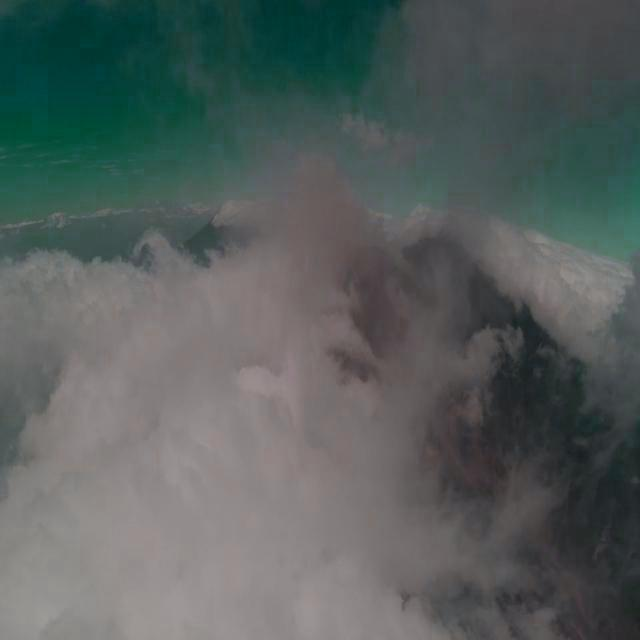Plume: (370, 2, 640, 194)
